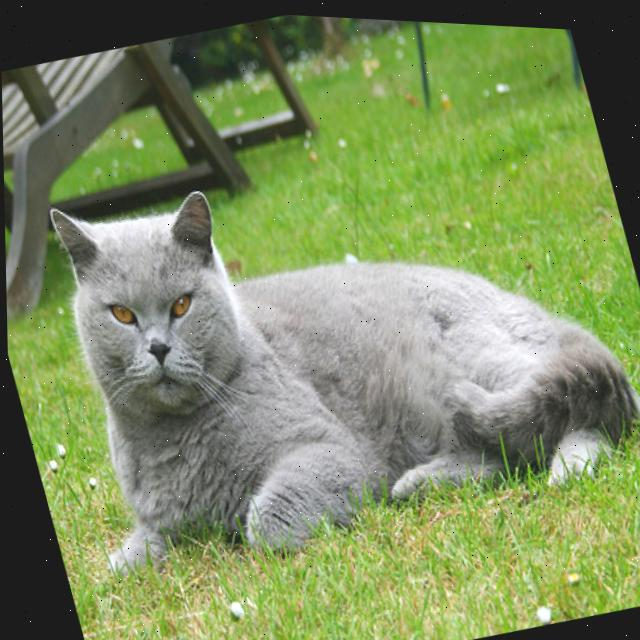British Shorthair: (5, 74, 640, 614)
